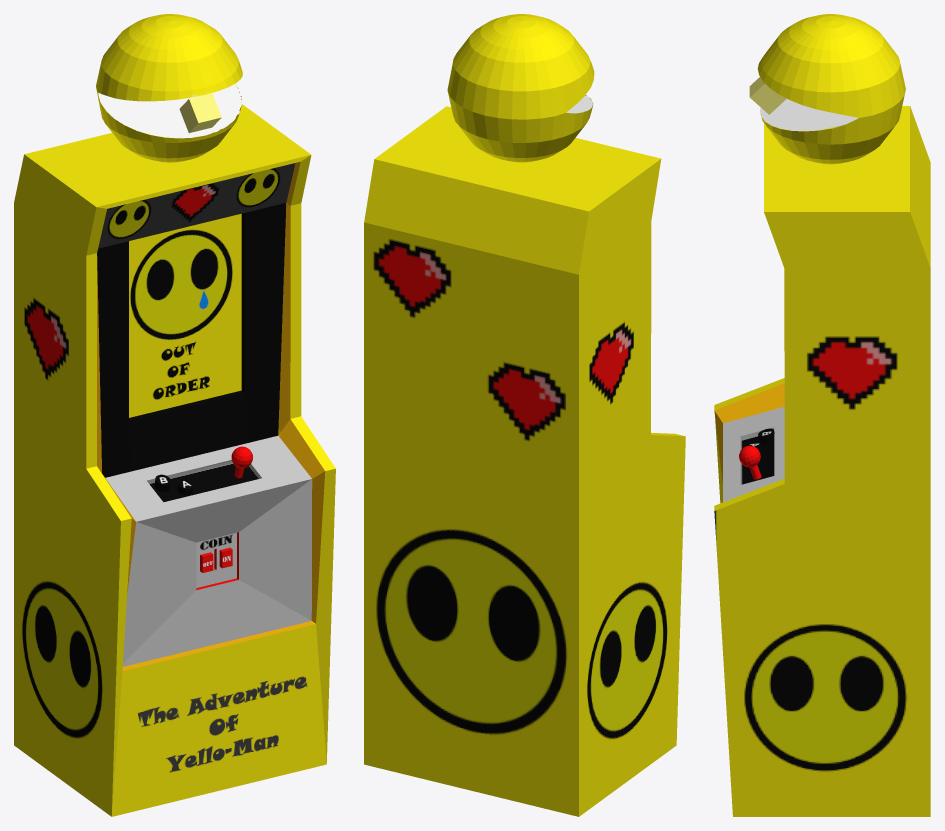
Rendered from Arcade Machine.fbx.
3 views of the same model, side by side, from view 1: azimuth 30°, elevation 25°; view 2: azimuth 150°, elevation 25°; view 3: azimuth 270°, elevation 25° (orthographic).
Visible parts, largest first — view 1: Arcade Machine; view 2: Arcade Machine; view 3: Arcade Machine.
Part boxes in pixels (<box>): Arcade Machine: <box>14,14,335,816</box>; Arcade Machine: <box>364,14,685,816</box>; Arcade Machine: <box>714,14,930,816</box>.
Bounding box in the file's own units: 153 × 499 × 132.
